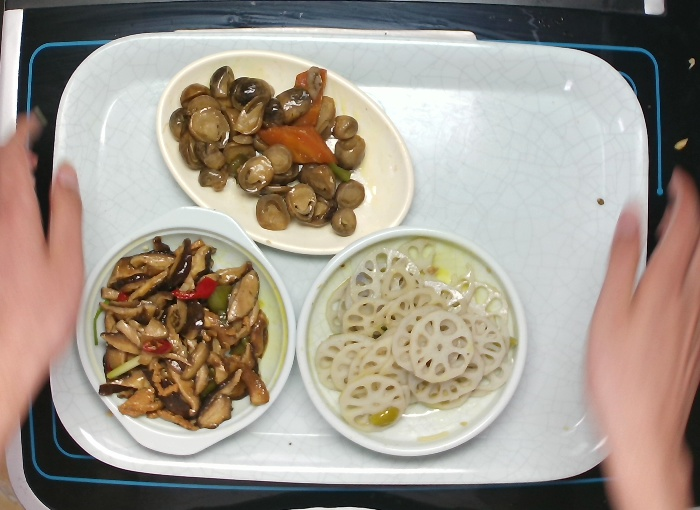JYsf-Shuang_Er_Pan: (73, 203, 298, 457)
JYsf-Tuo_Yuan_Wan: (154, 48, 417, 259)
JYsf-Xiao_Yuan_Pan: (292, 223, 530, 459)
